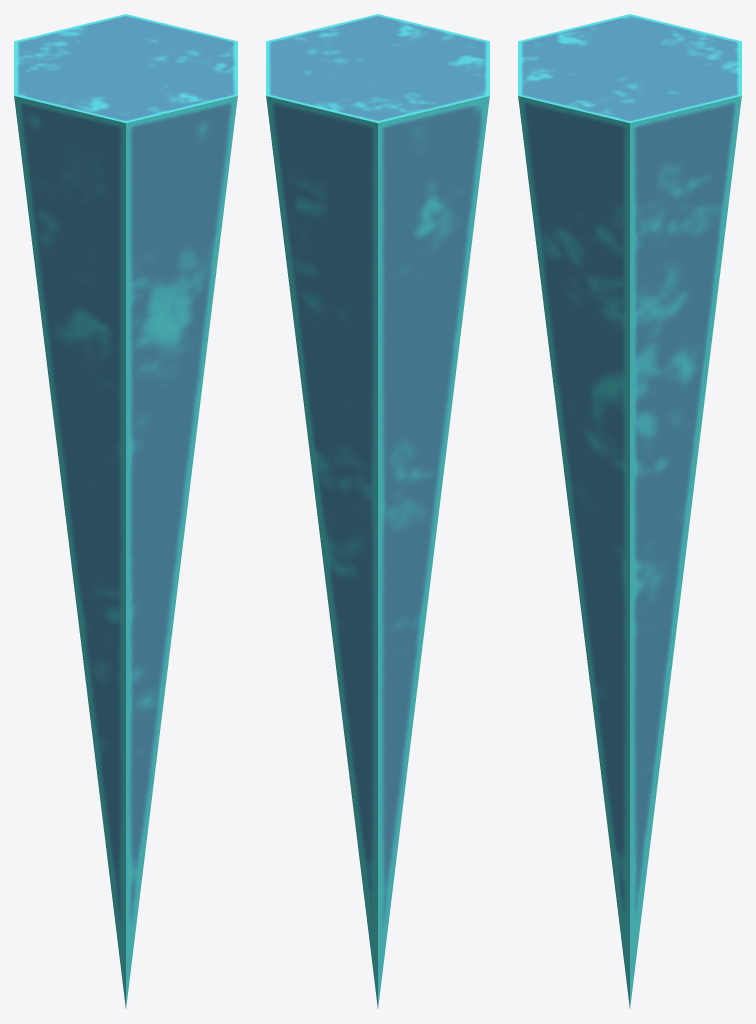
File: spikenew1.fbx
3 views of the same model, side by side, from view 1: azimuth 30°, elevation 25°; view 2: azimuth 150°, elevation 25°; view 3: azimuth 270°, elevation 25° (orthographic).
Visible parts, largest first — view 1: pCylinder2; view 2: pCylinder2; view 3: pCylinder2.
Boxes of the visible parts, x1,y1,x2,y2 form: pCylinder2: [14, 14, 237, 1008]; pCylinder2: [266, 14, 489, 1008]; pCylinder2: [518, 14, 741, 1008].
Size of the model in its own units: 59.47 by 239 by 51.5.
Materials: 1 (1 with a texture image).
